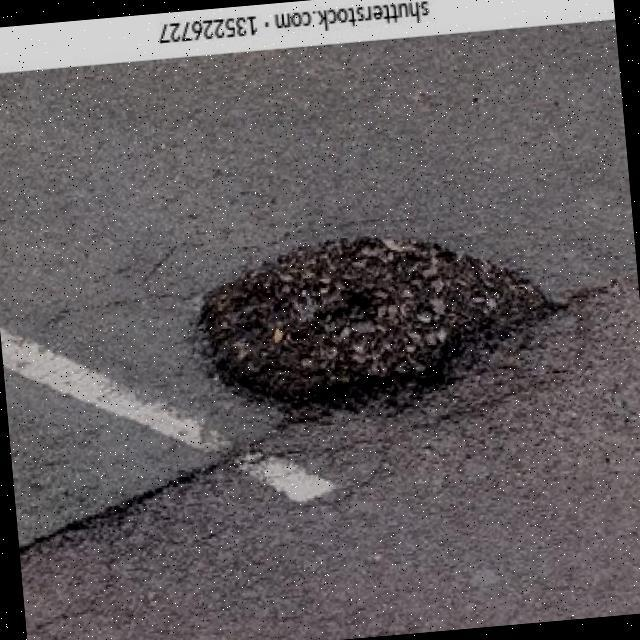Pothole: (201, 237, 549, 421)
